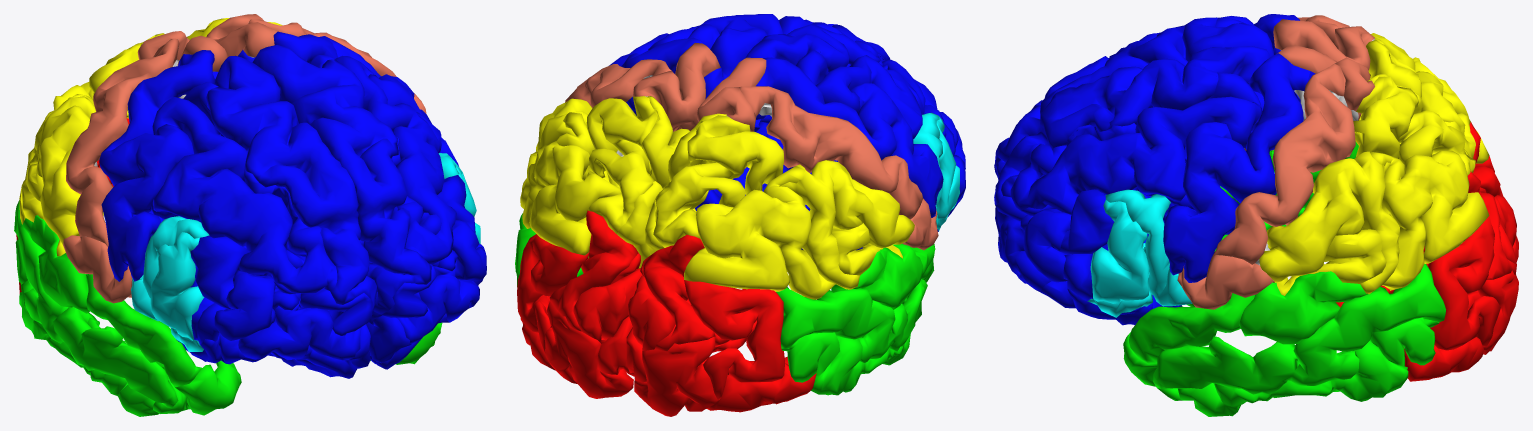
File: Brain merge.fbx
3 views of the same model, side by side, from view 1: azimuth 30°, elevation 25°; view 2: azimuth 150°, elevation 25°; view 3: azimuth 270°, elevation 25° (orthographic). The views are drawn at different scales.
Parts seen in each view (by area): view 1: BRAIN; view 2: BRAIN; view 3: BRAIN.
Part boxes in pixels (bbox=[...]): BRAIN: bbox=[14, 14, 486, 416]; BRAIN: bbox=[515, 14, 965, 416]; BRAIN: bbox=[994, 14, 1518, 416].
Bounding box in the file's own units: 112 × 91.31 × 137.
